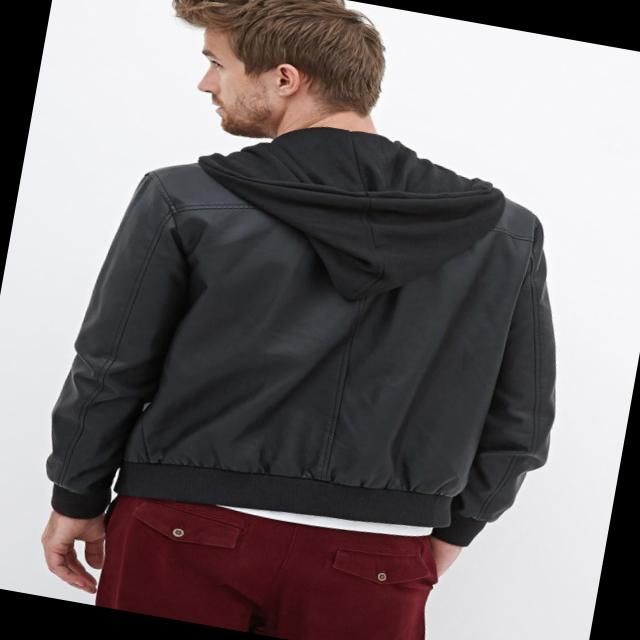Jacket: (28, 88, 598, 574)
